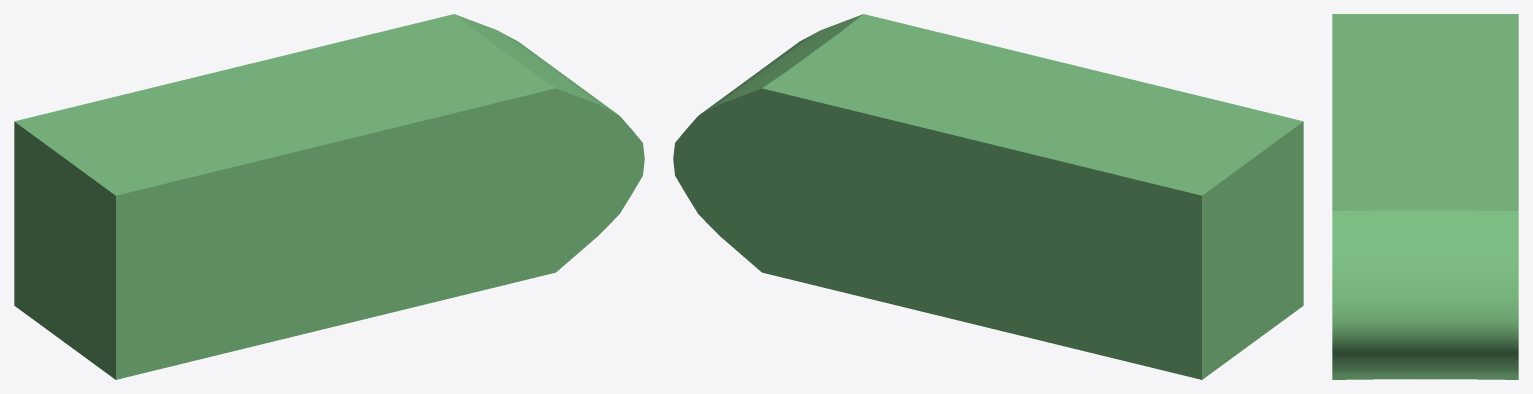
3 renders of one model, left to right at view 1: azimuth 30°, elevation 25°; view 2: azimuth 150°, elevation 25°; view 3: azimuth 270°, elevation 25°, orthographic. The views are drawn at different scales.
Parts seen in each view (by area): view 1: pCube1; view 2: pCube1; view 3: pCube1.
Part boxes in pixels (x1,y1,x2,y2): pCube1: [14, 14, 644, 379]; pCube1: [673, 14, 1303, 379]; pCube1: [1332, 14, 1518, 379].
Bounding box in the file's own units: 3 × 1 × 1.
